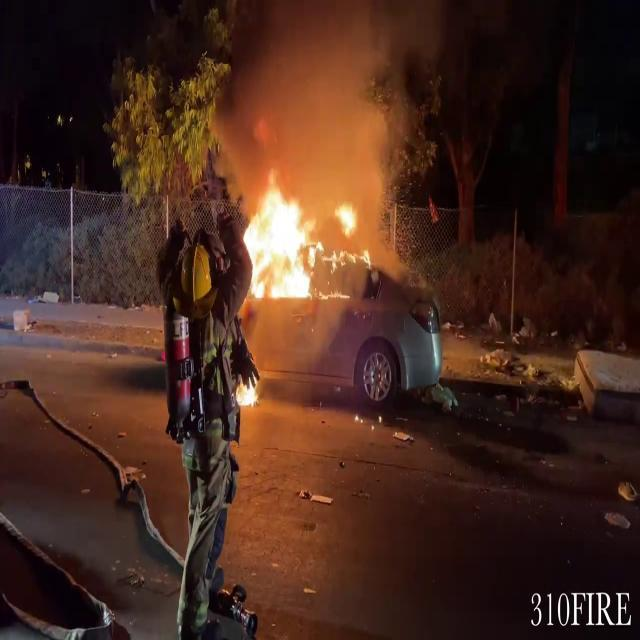Fire: (238, 178, 360, 299)
Smoke: (212, 0, 422, 178)
